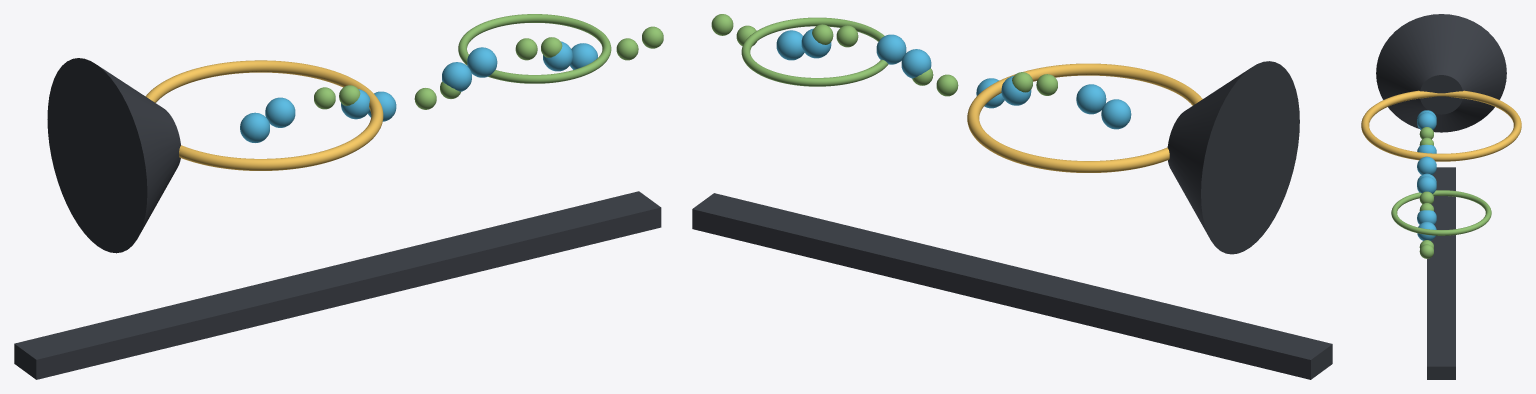
File: physics-sound-volume.glb
3 renders of one model, left to right at view 1: azimuth 30°, elevation 25°; view 2: azimuth 150°, elevation 25°; view 3: azimuth 270°, elevation 25°, orthographic. The views are drawn at different scales.
Visible parts, largest first — view 1: quiet-stage-reference-base, vibrating-speaker-cone, strong-compression-ring-near-source, distance-drop-weaker-ring, pressure-particle-1, pressure-particle-9, pressure-particle-0, pressure-particle-8, pressure-particle-13; view 2: quiet-stage-reference-base, vibrating-speaker-cone, strong-compression-ring-near-source, distance-drop-weaker-ring, pressure-particle-0, pressure-particle-1, pressure-particle-9, pressure-particle-13, pressure-particle-8; view 3: vibrating-speaker-cone, quiet-stage-reference-base, strong-compression-ring-near-source, distance-drop-weaker-ring, pressure-particle-5, pressure-particle-9, pressure-particle-1, pressure-particle-12, pressure-particle-13, pressure-particle-15, pressure-particle-4, pressure-particle-10 (+1 smaller).
Boxes of the visible parts, bbox=[...] form: quiet-stage-reference-base: bbox=[14, 191, 661, 379]; vibrating-speaker-cone: bbox=[47, 58, 180, 253]; strong-compression-ring-near-source: bbox=[145, 60, 383, 170]; distance-drop-weaker-ring: bbox=[458, 14, 611, 83]; pressure-particle-1: bbox=[265, 97, 295, 127]; pressure-particle-9: bbox=[467, 47, 497, 77]; pressure-particle-0: bbox=[240, 112, 269, 142]; pressure-particle-8: bbox=[442, 62, 471, 91]; pressure-particle-13: bbox=[570, 43, 597, 69]; quiet-stage-reference-base: bbox=[692, 193, 1332, 379]; vibrating-speaker-cone: bbox=[1167, 61, 1299, 254]; strong-compression-ring-near-source: bbox=[967, 63, 1202, 172]; distance-drop-weaker-ring: bbox=[741, 17, 888, 86]; pressure-particle-0: bbox=[1101, 99, 1131, 129]; pressure-particle-1: bbox=[1076, 84, 1106, 114]; pressure-particle-9: bbox=[876, 34, 906, 64]; pressure-particle-13: bbox=[776, 30, 804, 60]; pressure-particle-8: bbox=[901, 49, 931, 78]; vibrating-speaker-cone: bbox=[1376, 14, 1506, 132]; quiet-stage-reference-base: bbox=[1427, 167, 1455, 379]; strong-compression-ring-near-source: bbox=[1361, 90, 1521, 161]; distance-drop-weaker-ring: bbox=[1391, 190, 1491, 235]; pressure-particle-5: bbox=[1417, 156, 1436, 174]; pressure-particle-9: bbox=[1417, 176, 1436, 193]; pressure-particle-1: bbox=[1417, 112, 1436, 129]; pressure-particle-12: bbox=[1417, 210, 1436, 224]; pressure-particle-13: bbox=[1417, 222, 1436, 240]; pressure-particle-15: bbox=[1419, 244, 1433, 258]; pressure-particle-4: bbox=[1417, 144, 1436, 153]; pressure-particle-10: bbox=[1419, 191, 1433, 204].
Size of what is drawn, in the model's own units: 2.6 by 1.15 by 0.884.
